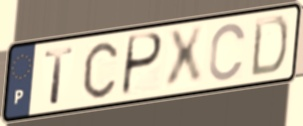C: (206, 21, 248, 84), (82, 39, 120, 101)
D: (248, 14, 290, 80)
P: (119, 31, 165, 100)
T: (43, 45, 75, 107)
X: (164, 23, 206, 93)
